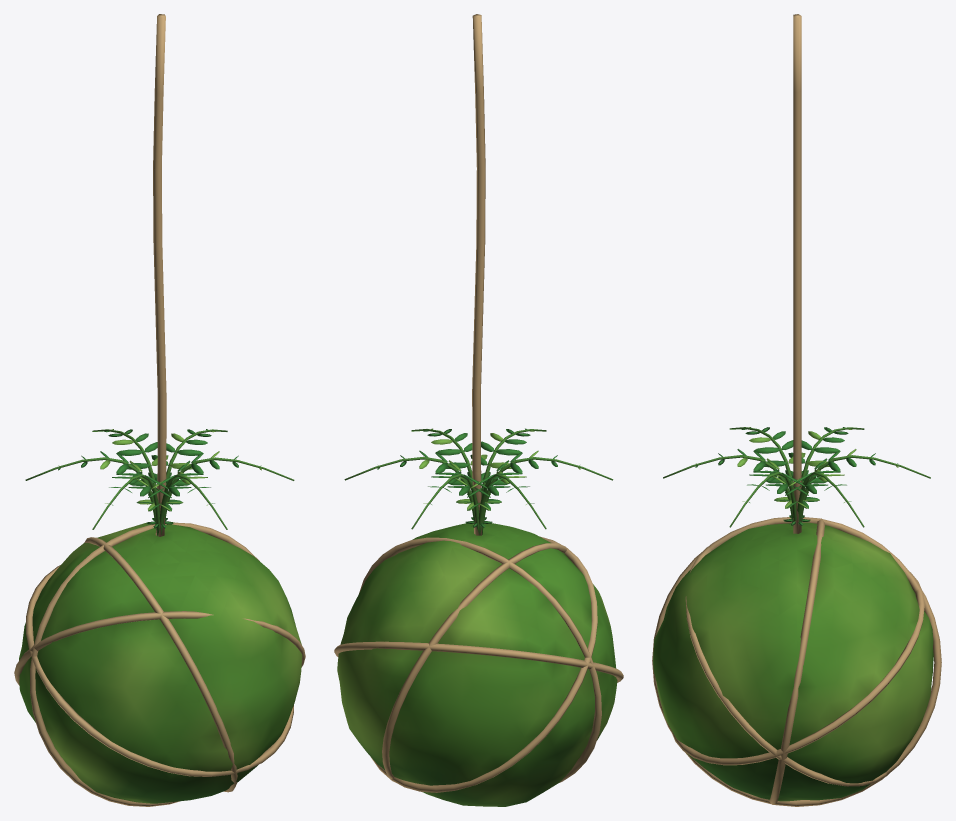
File: canopy_kokedama.glb
3 renders of one model, left to right at view 1: azimuth 30°, elevation 25°; view 2: azimuth 150°, elevation 25°; view 3: azimuth 270°, elevation 25°, orthographic.
Visible parts, largest first — view 1: canopy_kokedama; view 2: canopy_kokedama; view 3: canopy_kokedama.
Boxes of the visible parts, bbox=[...] form: canopy_kokedama: bbox=[14, 14, 305, 806]; canopy_kokedama: bbox=[334, 14, 623, 806]; canopy_kokedama: bbox=[652, 14, 941, 806].
Size of the model in its own units: 4.97 by 14.66 by 4.96.
